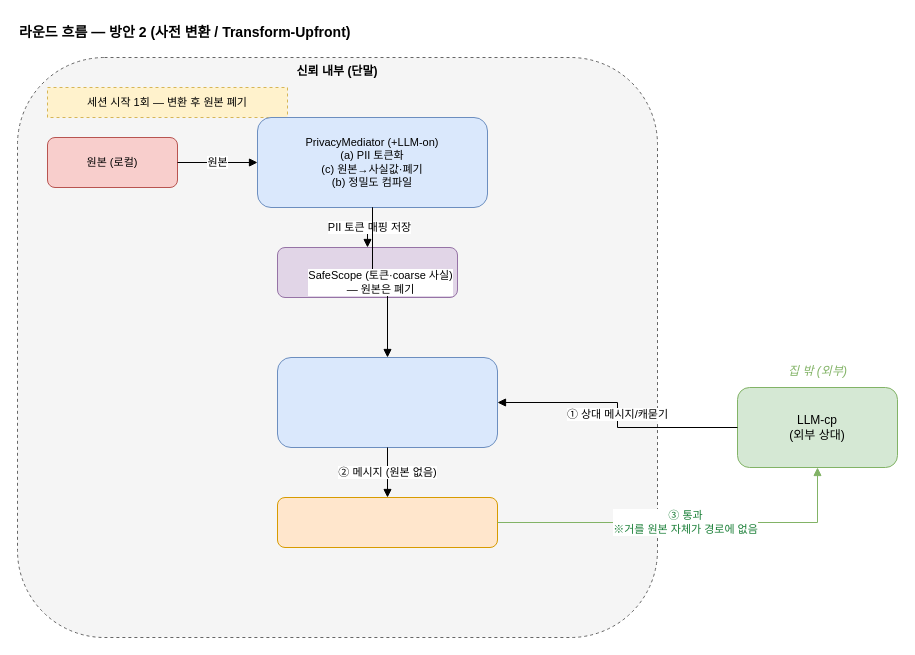
The diagram is 915 pixels wide and 655 high, and some of its shapes have lost their labels. The shapes that lost their labels are listed below. From the top down, each one's box as (x1, y1, x2, y2) in pixels, then its label:
(276, 246, 458, 298): PrivacyVault 토큰↔원본 매핑
(276, 356, 498, 448): LLM-on (협상 추론) 판단 + 작성 (안전형만 사용)
(276, 496, 498, 548): EgressGate (검증)
